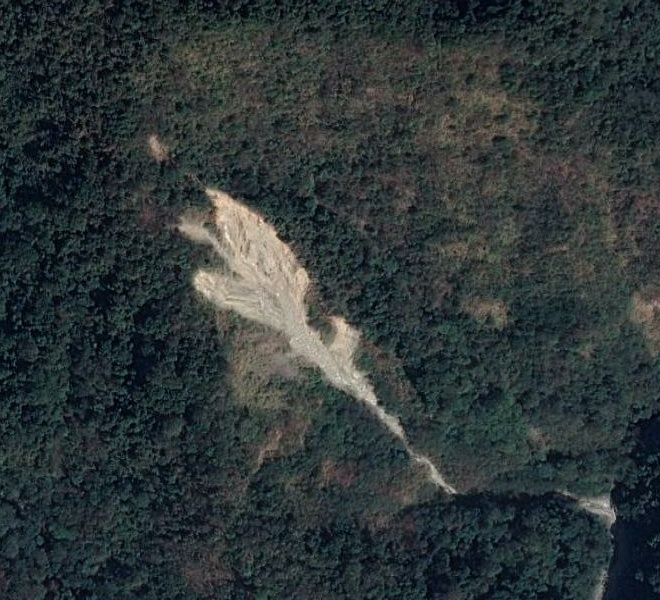slope: (171, 183, 459, 502), (575, 490, 624, 526)
